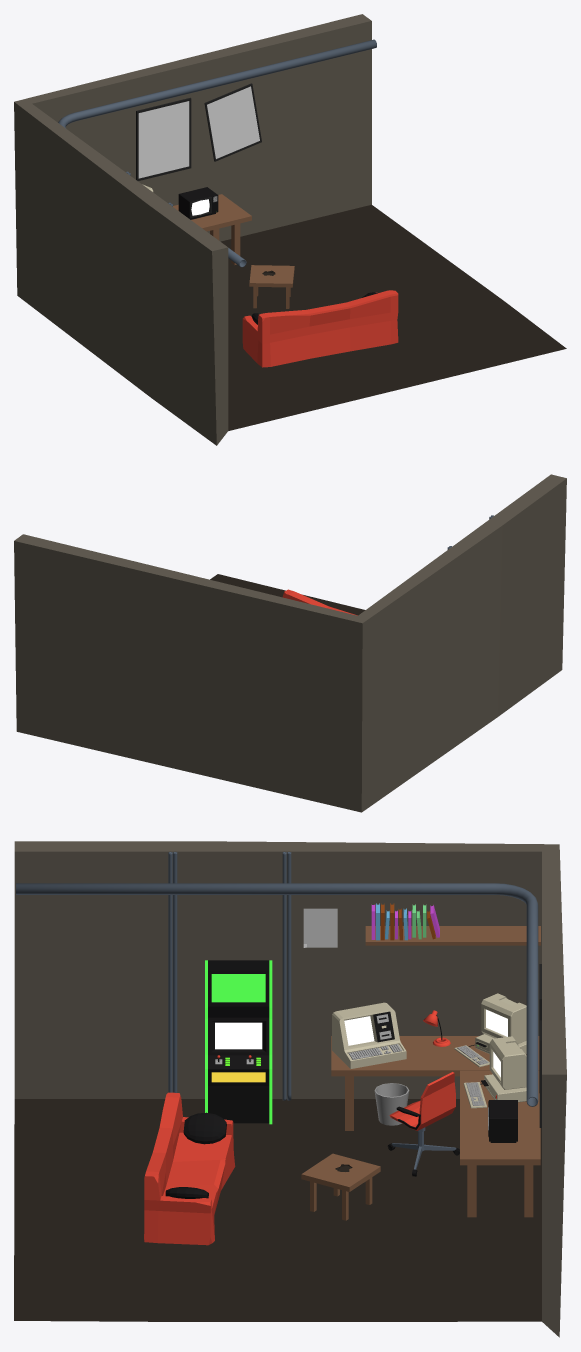
File: PortfolioRoom0.5.glb
The picture shows the model from 3 angles, top to bottom: view 1: azimuth 30°, elevation 25°; view 2: azimuth 150°, elevation 25°; view 3: azimuth 270°, elevation 25°; orthographic projection. The views are drawn at different scales.
Parts seen in each view (by area): view 1: room, floor, sofa, picture1, pipe2, picture2, table2, tablecards, tv; view 2: room, floor; view 3: room, floor, arcade, sofa, pipe2, table2, table1, computer1, computer3, wood, chair, computer2 (+9 smaller).
Boxes of the visible parts, x1=… form: room: x1=14, y1=14, x2=371, y2=445; floor: x1=221, y1=204, x2=566, y2=430; sofa: x1=242, y1=290, x2=398, y2=367; picture1: x1=136, y1=97, x2=191, y2=180; pipe2: x1=58, y1=39, x2=376, y2=267; picture2: x1=204, y1=83, x2=261, y2=161; table2: x1=173, y1=194, x2=251, y2=265; tablecards: x1=249, y1=265, x2=294, y2=308; tv: x1=178, y1=187, x2=218, y2=219; room: x1=14, y1=474, x2=566, y2=812; floor: x1=210, y1=574, x2=365, y2=615; room: x1=14, y1=841, x2=566, y2=1337; floor: x1=14, y1=1099, x2=541, y2=1321; arcade: x1=205, y1=960, x2=272, y2=1124; sofa: x1=144, y1=1092, x2=235, y2=1245; pipe2: x1=16, y1=883, x2=538, y2=1106; table2: x1=460, y1=1070, x2=540, y2=1217; table1: x1=331, y1=1036, x2=539, y2=1130; computer1: x1=332, y1=1002, x2=406, y2=1068; computer3: x1=463, y1=1036, x2=526, y2=1108; wood: x1=365, y1=926, x2=540, y2=945; chair: x1=387, y1=1072, x2=459, y2=1176; computer2: x1=454, y1=993, x2=526, y2=1067.
Size of the model in its own units: 4.72 by 2.48 by 4.72.
